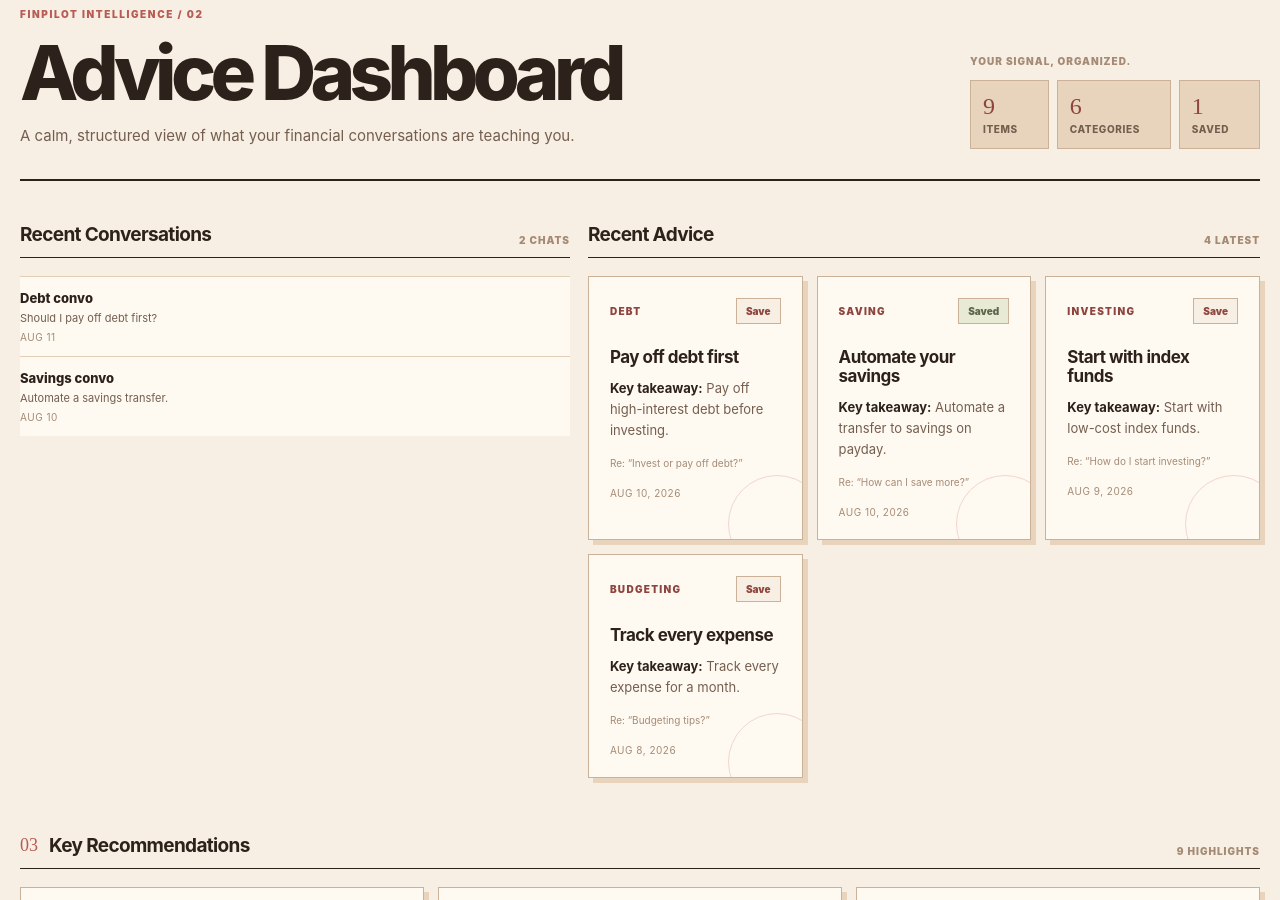
Scenario: DashboardPage › saves an item via POST /advice/{id}/save and moves it into Saved Advice
Click the 3rd button with class "dash-save-btn": click(1216, 311) top-left (1193, 298), bottom-right (1238, 324)
(page scrolled)
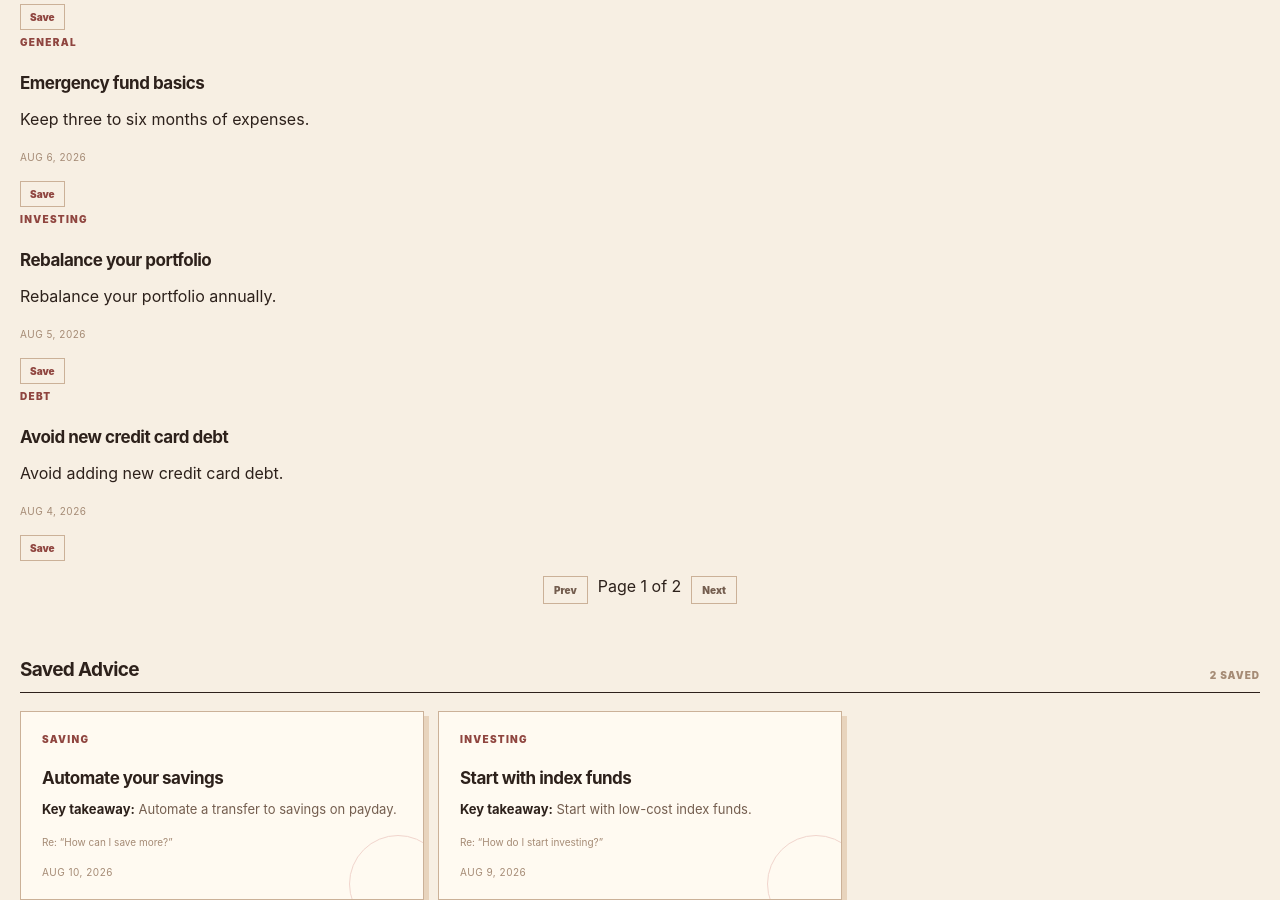
Check: the element with class "dashboard-section" does not show "Pay off debt first"
Check: the element with class "dashboard-section" shows "Start with index funds", box top-left (460, 768), bottom-right (631, 788)
